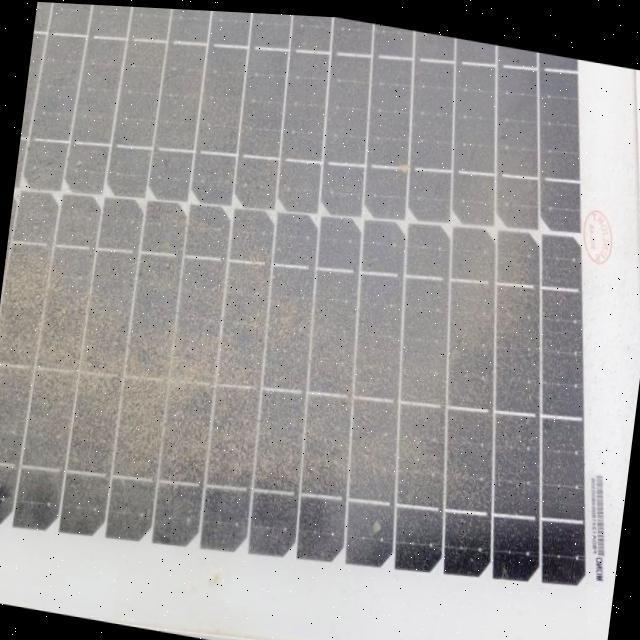Surface Contaminant: (0, 2, 569, 583)
